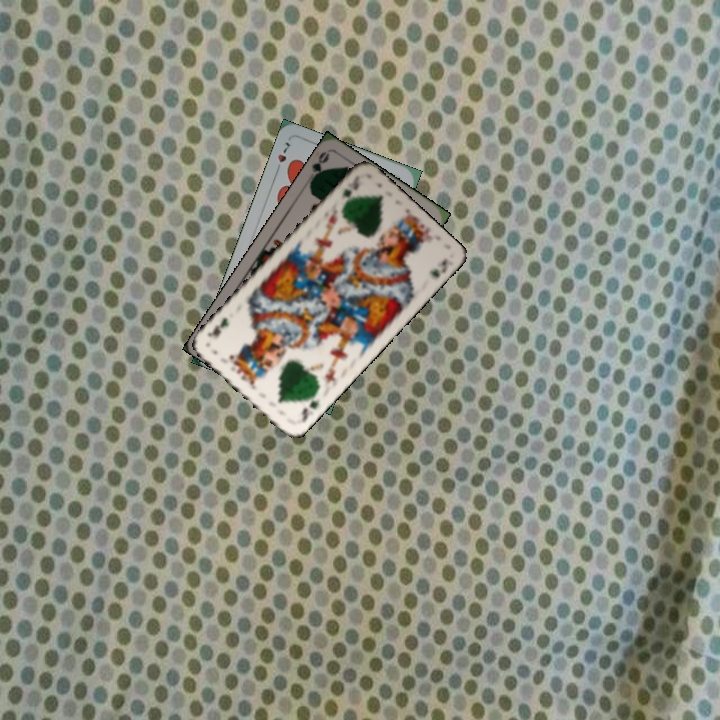GK: (294, 388, 322, 426), (337, 171, 362, 201)
GO: (306, 148, 331, 188)
H7: (271, 138, 294, 176)
